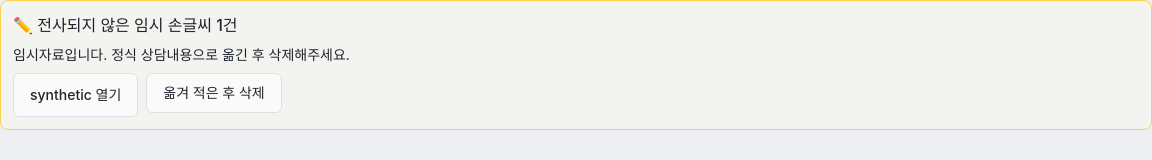
two confirmations, busy duplicate prevention, success notice and list removal
Step 1. Click the button "옮겨 적은 후 삭제" → point(214, 93), box x1=146 y1=73 x2=282 y2=113
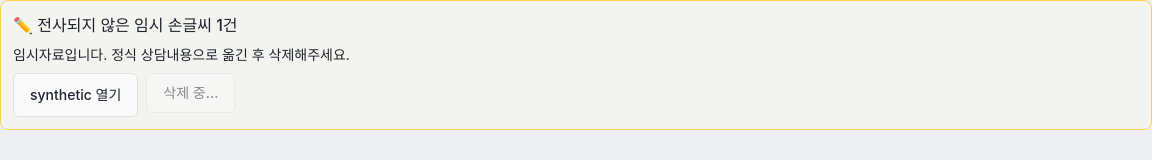
expect the button "삭제 중…" is disabled: met
Step 2. Click the button "삭제 중…" → point(191, 93), box x1=146 y1=73 x2=235 y2=113
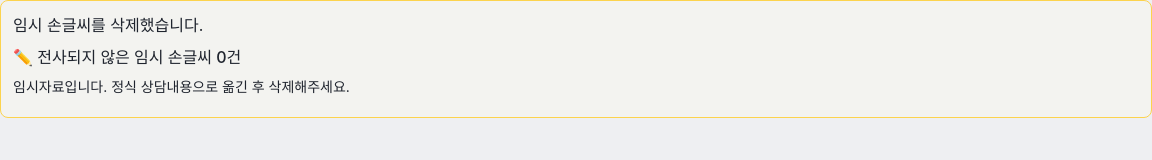
expect the text "임시 손글씨를 삭제했습니다." is shown: met, box x1=13 y1=15 x2=203 y2=35
expect the button "synthetic 열기" is gone: met
